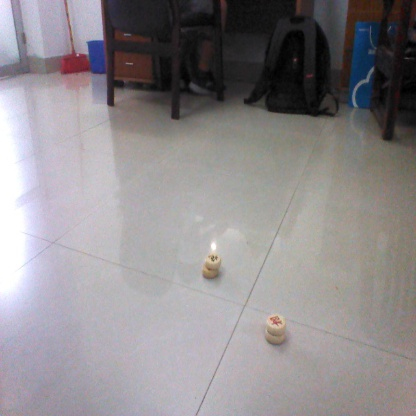chess: (265, 312, 287, 342), (201, 256, 222, 277)
